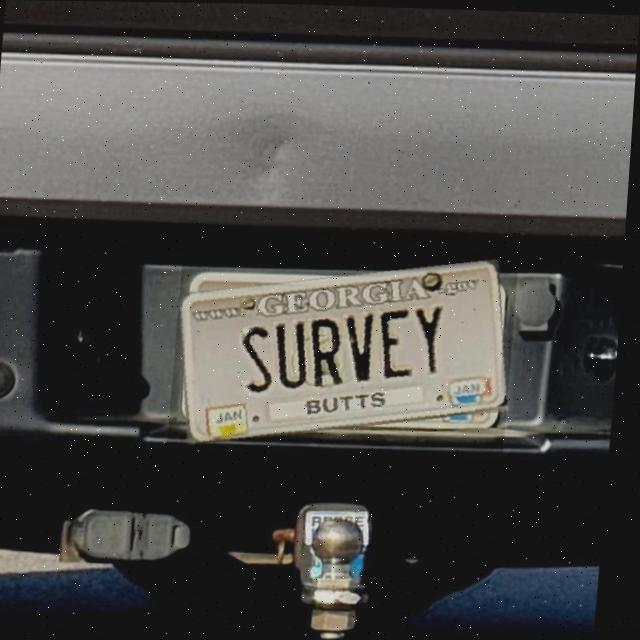LicensePlate: (183, 256, 512, 444)
